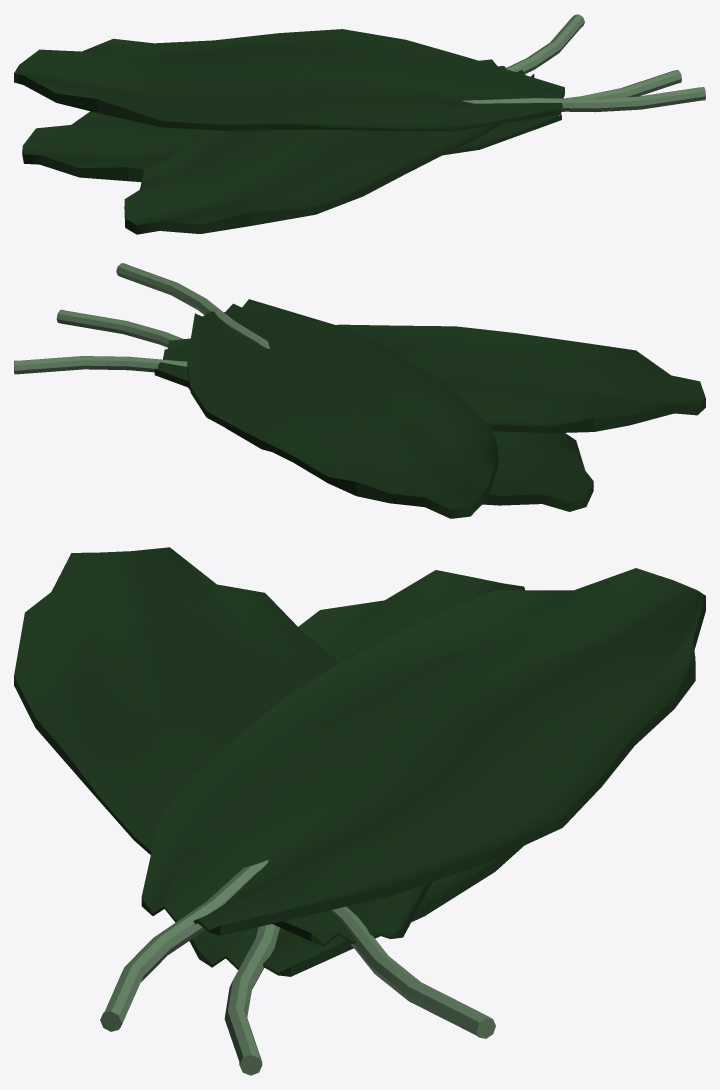
File: SpinachCooked.fbx
3 renders of one model, top to bottom at view 1: azimuth 30°, elevation 25°; view 2: azimuth 150°, elevation 25°; view 3: azimuth 270°, elevation 25°, orthographic. The views are drawn at different scales.
Parts seen in each view (by area): view 1: m_Spinach3; view 2: m_Spinach3; view 3: m_Spinach3.
Boxes of the visible parts, box(x1,y1,x2,y2) form: m_Spinach3: box(14, 14, 705, 234); m_Spinach3: box(14, 263, 705, 518); m_Spinach3: box(14, 547, 705, 1075).
Size of the model in its own units: 14.47 by 1.23 by 9.06.
